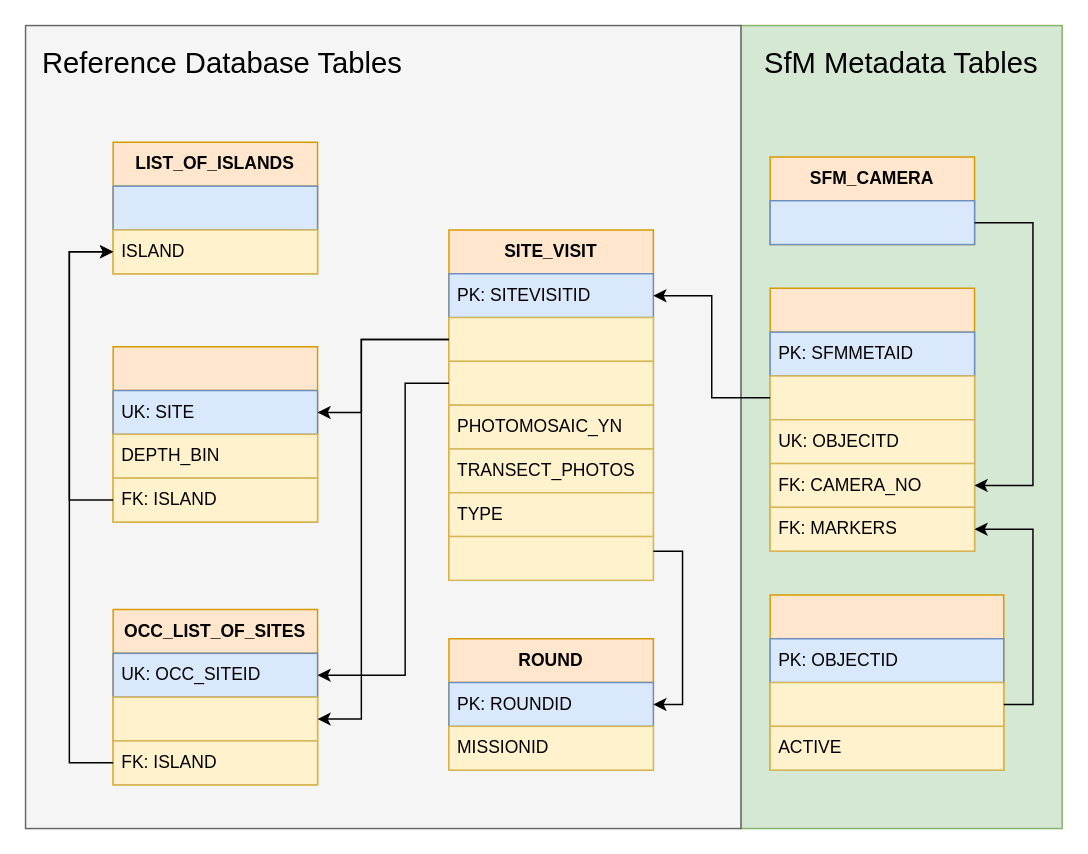
Image size: 1088x854. Some labels were removed from this diagram. Here are the shapes that lost their labels. From the top down, the box of each, then its label:
(112, 185, 318, 230): UK: ISLANDCODE
(769, 199, 975, 245): PK: CAMERA_NO
(447, 316, 653, 361): FK: SITE
(447, 360, 653, 405): FK: OCC_SITEID
(769, 374, 975, 420): FK: SITEVISITID
(112, 345, 318, 522): LIST_OF_SITES
(769, 287, 975, 551): SFM_METADATA
(447, 535, 653, 580): ROUNDID
(769, 593, 1004, 770): SFM_LIST_OF_MARKERS
(112, 696, 318, 741): FK: REA_SITE
(769, 681, 1004, 726): UK: MARKERS
